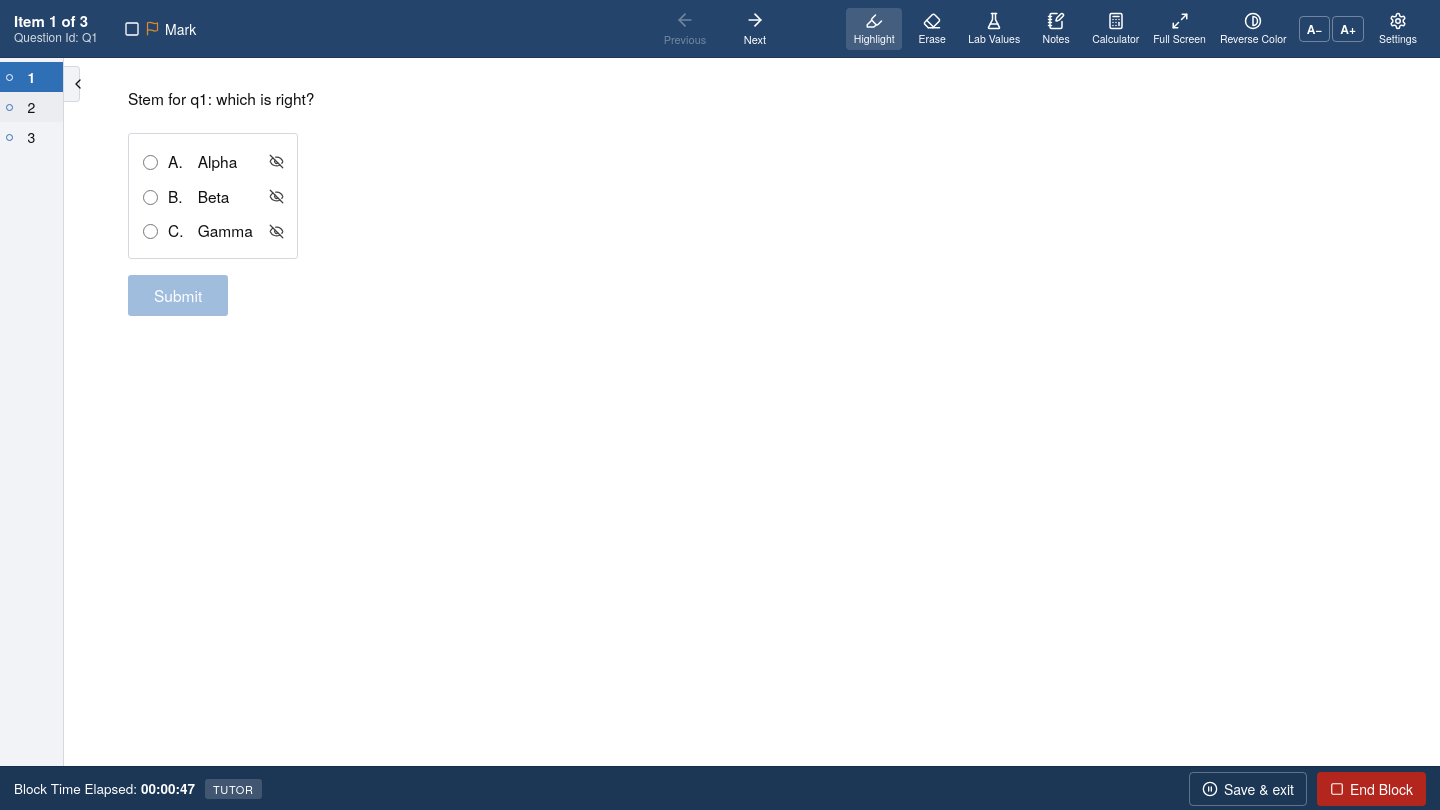
Scenario: ExamSimulator › shows the time taken to answer the moment the answer is revealed, and stops the item's clock there
Click the radio button labelled "B. Beta". click: (150, 197)
box: [143, 190, 158, 205]
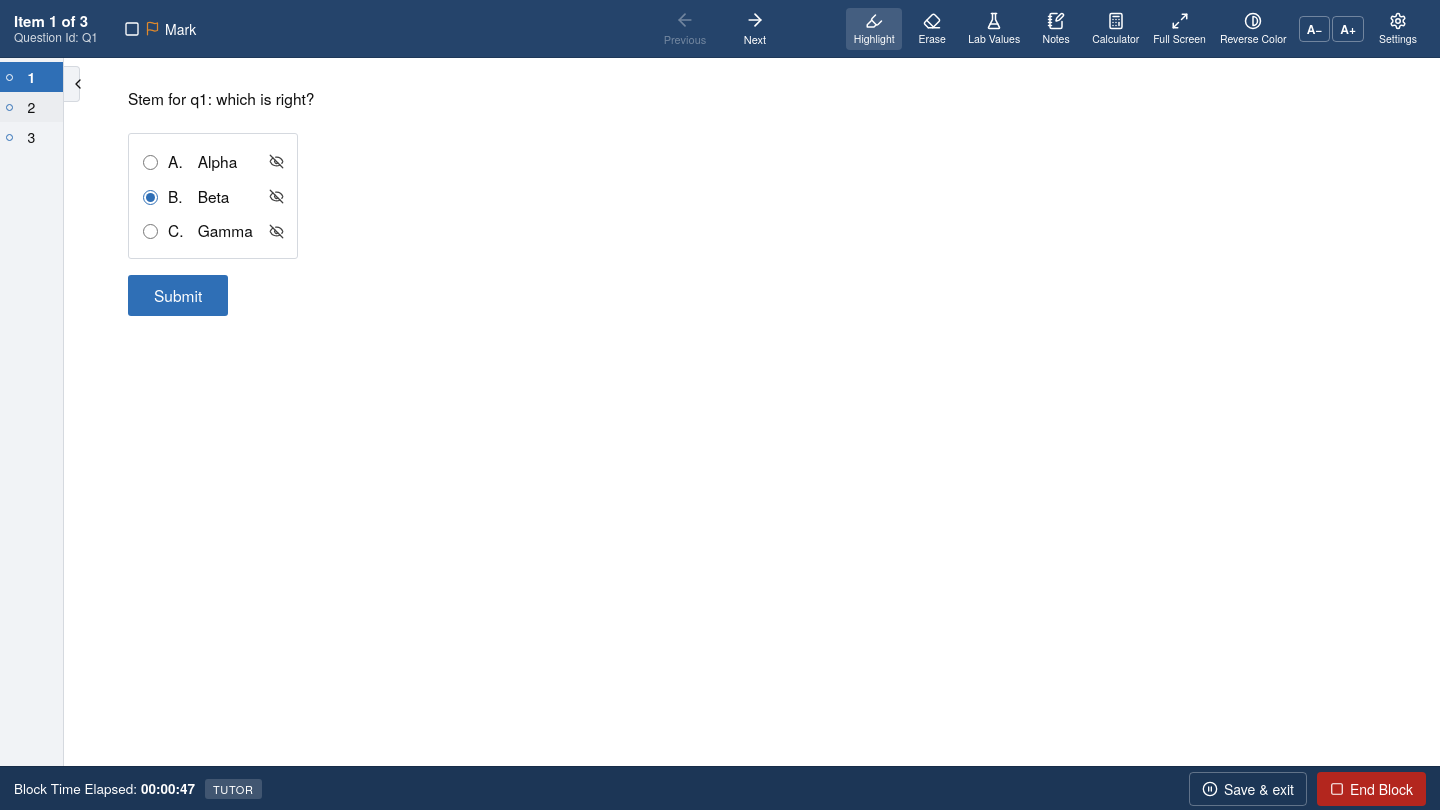
Click the button "Submit". click: (178, 296)
box: [128, 275, 228, 316]
Wait 60000 ms
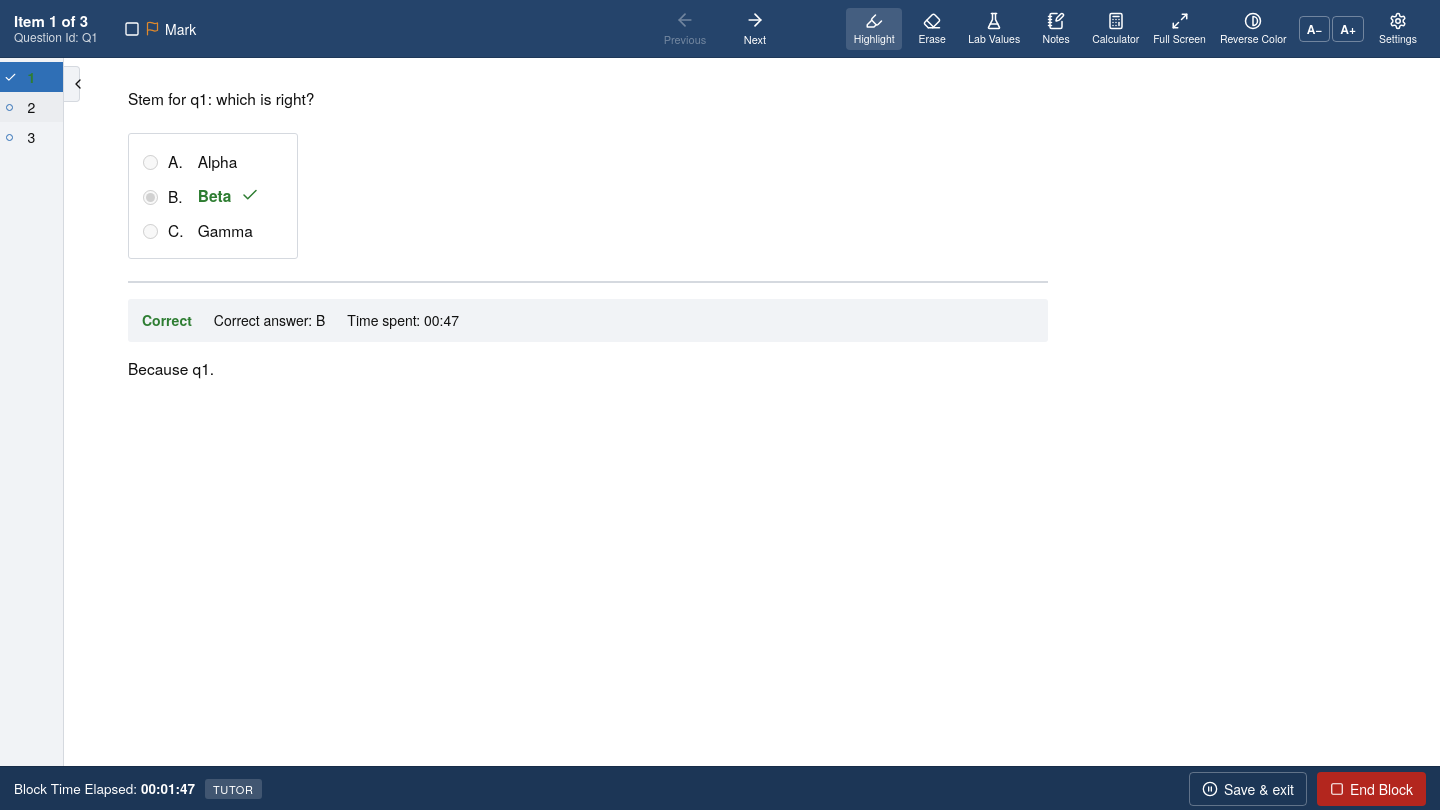
Expected: the text "Time spent: 00:47" is shown, [347, 309, 459, 332]
# Reading the explanation for a minute is not time spent answering.
Press ArrowRight
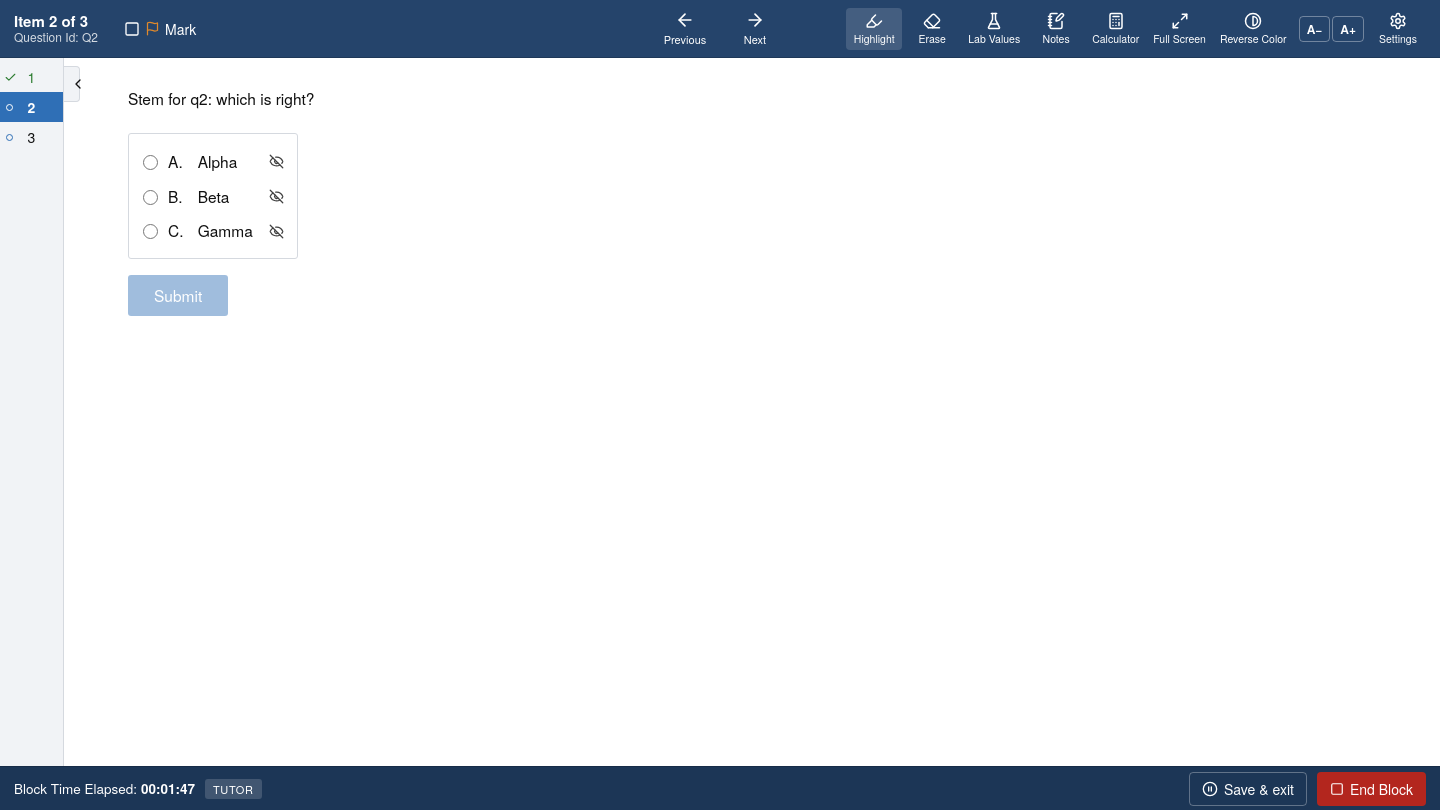
Press ArrowLeft
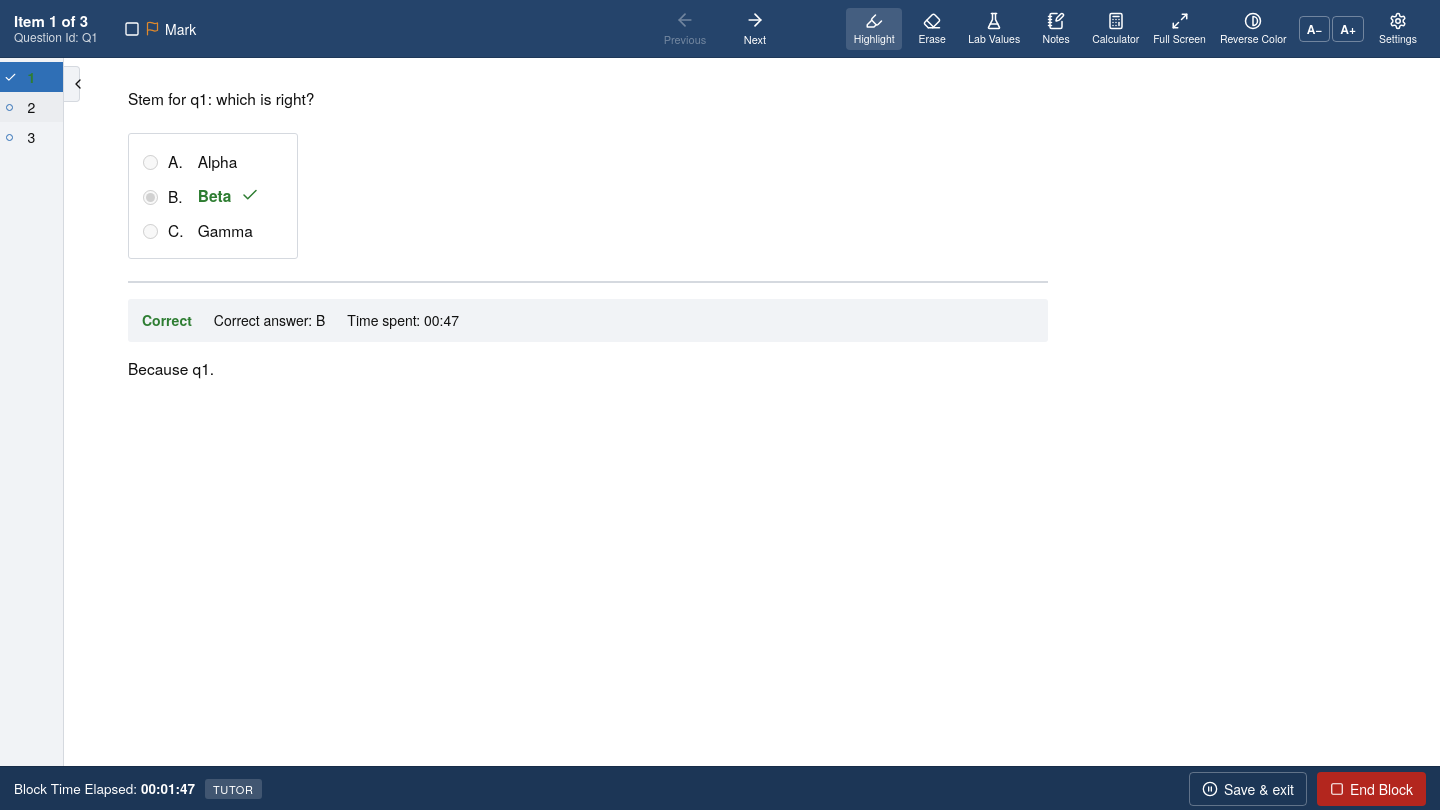
Expected: the text "Time spent: 00:47" is shown, [347, 309, 459, 332]
